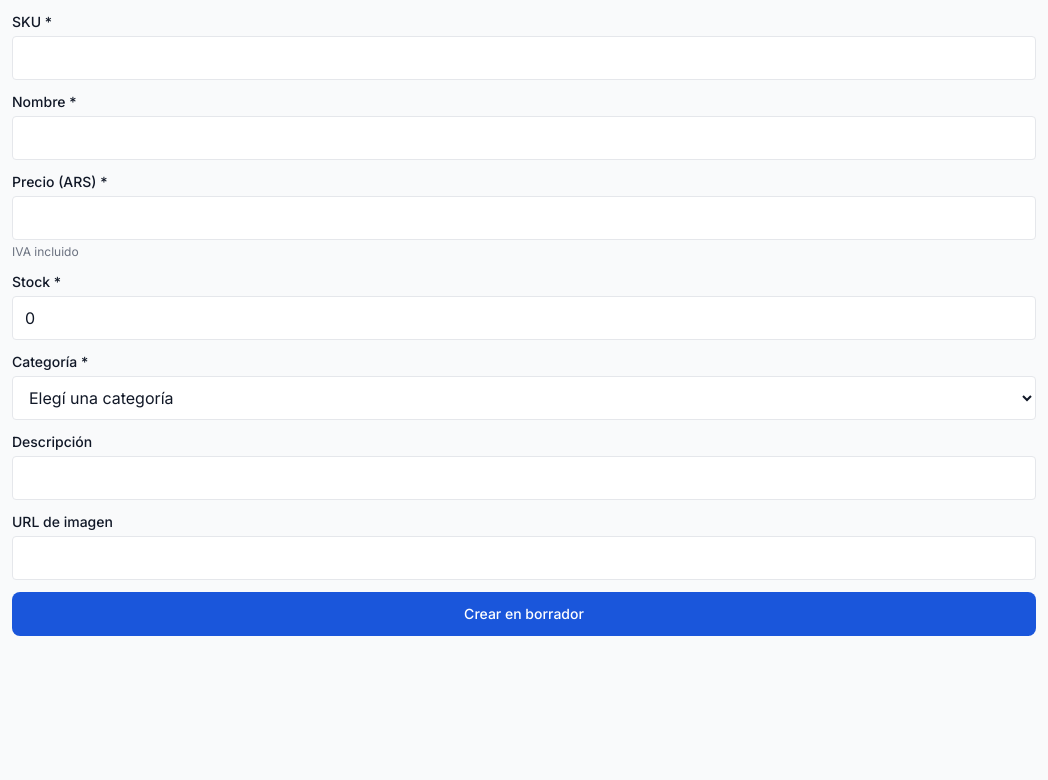
Test: ProductForm (AC-2/AC-3/AC-5/AC-9) › validación cliente (AC-5): precio 0 y nombre vacío → errores, no submitea
Type "X" into the field labelled "SKU *".
click(524, 58); type("X")  # box top-left (12, 36), bottom-right (1036, 80)
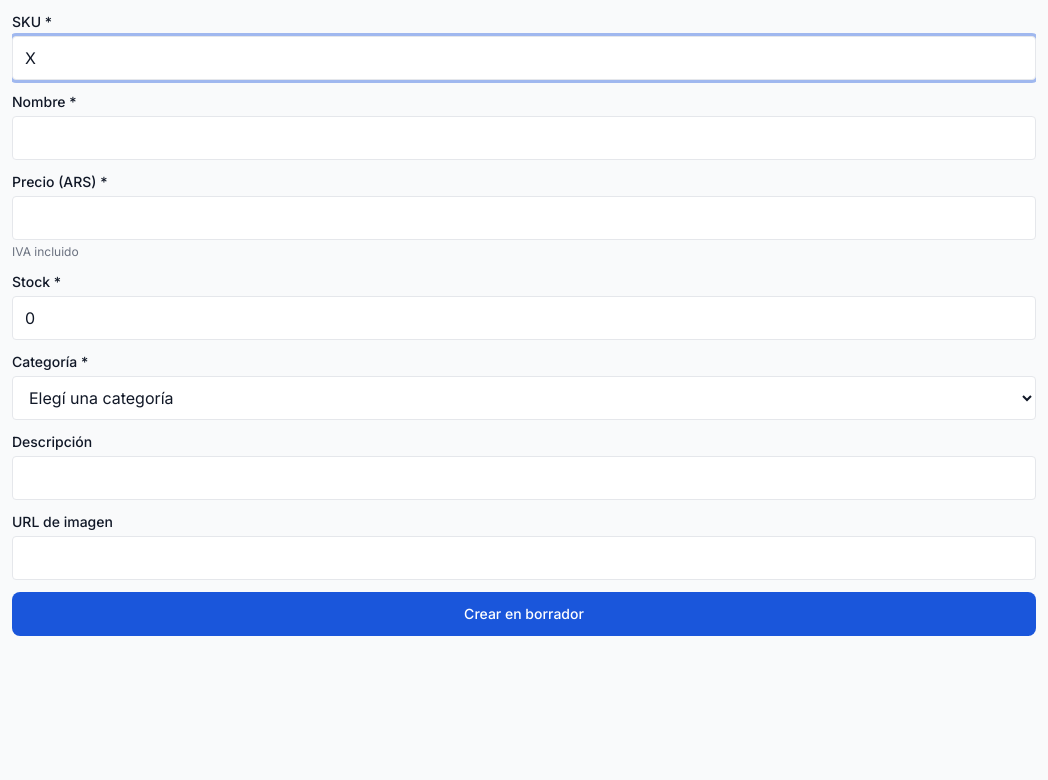
Type "0" into the number field labelled "Precio (ARS) *".
click(524, 218); type("0")  # box top-left (12, 196), bottom-right (1036, 240)
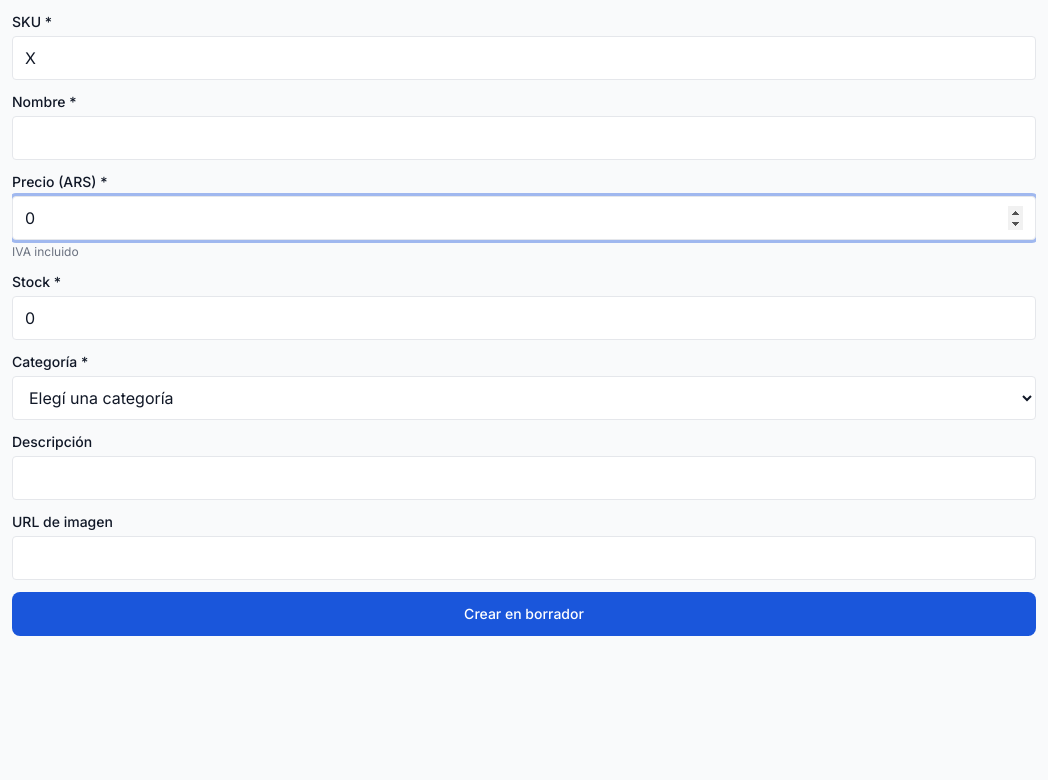
Click the button "Crear en borrador".
click(524, 614)  # box top-left (12, 592), bottom-right (1036, 636)
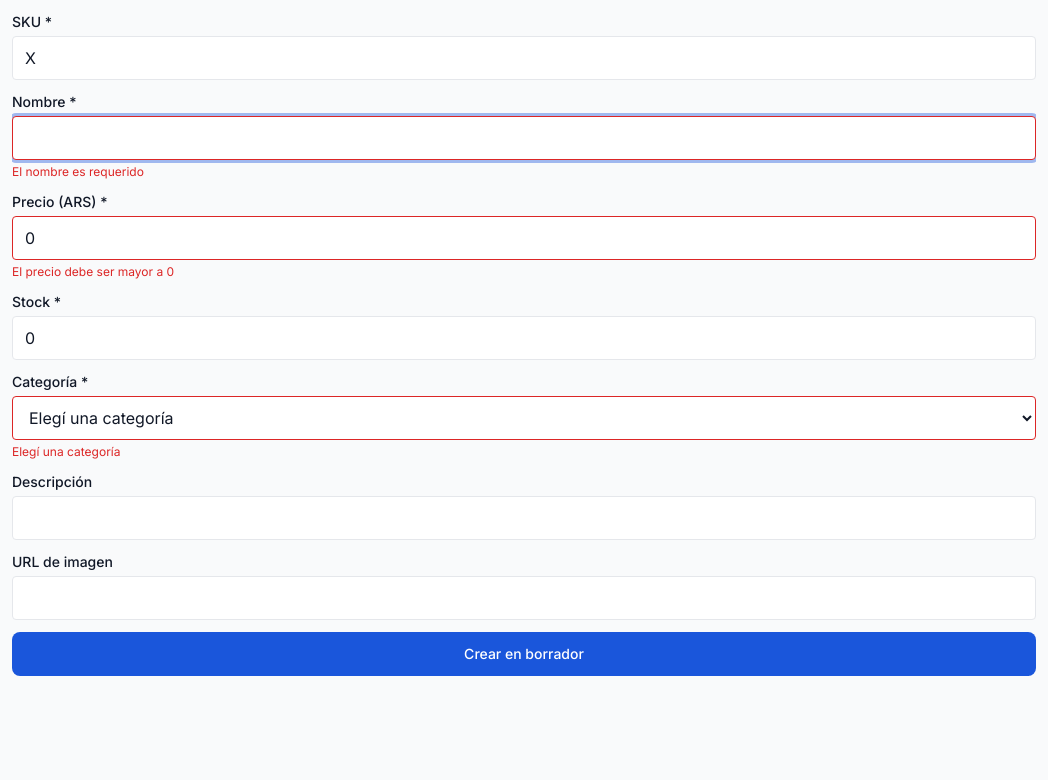
Expected: the text "El nombre es requerido" is shown, top-left (12, 164), bottom-right (144, 179)
Expected: the text "El precio debe ser mayor a 0" is shown, top-left (12, 264), bottom-right (174, 279)
